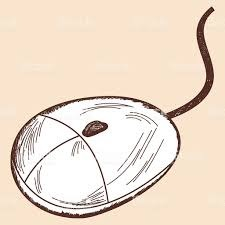mouse: (4, 73, 188, 225)
